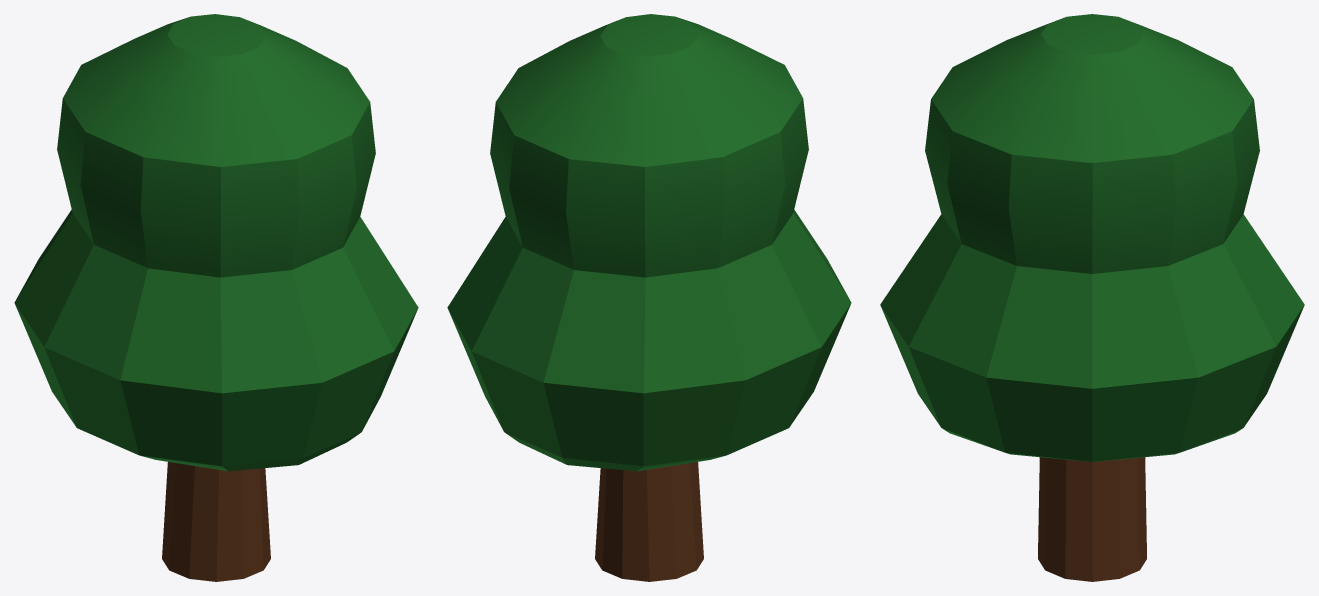
File: MOD_Arbre.FBX
3 renders of one model, left to right at view 1: azimuth 30°, elevation 25°; view 2: azimuth 150°, elevation 25°; view 3: azimuth 270°, elevation 25°, orthographic.
Visible parts, largest first — view 1: MOD_arbreA; view 2: MOD_arbreA; view 3: MOD_arbreA.
Part boxes in pixels (<box>): MOD_arbreA: <box>14,14,418,581</box>; MOD_arbreA: <box>447,14,851,581</box>; MOD_arbreA: <box>880,14,1304,581</box>.
Size of the model in its own units: 2.38 by 3.51 by 2.54.
